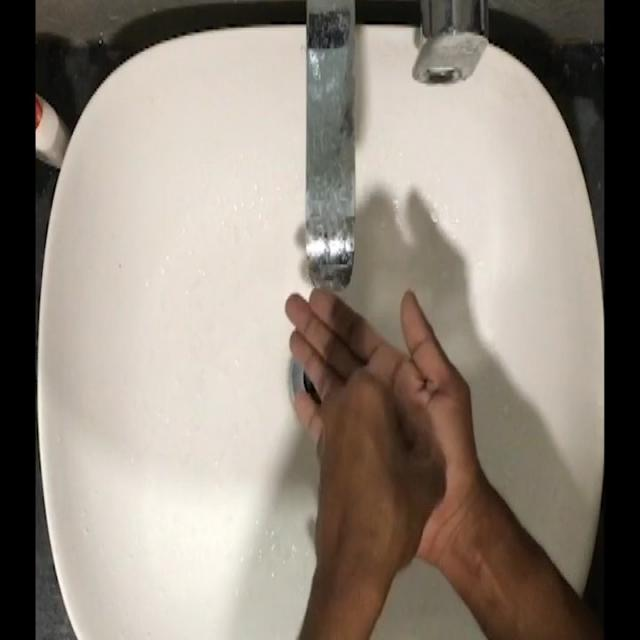step_6: (278, 280, 475, 576)
